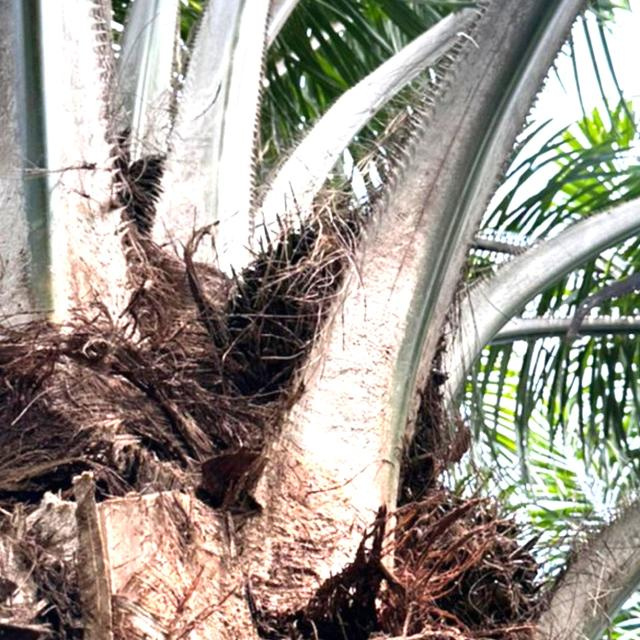unripe: (204, 185, 464, 462)
